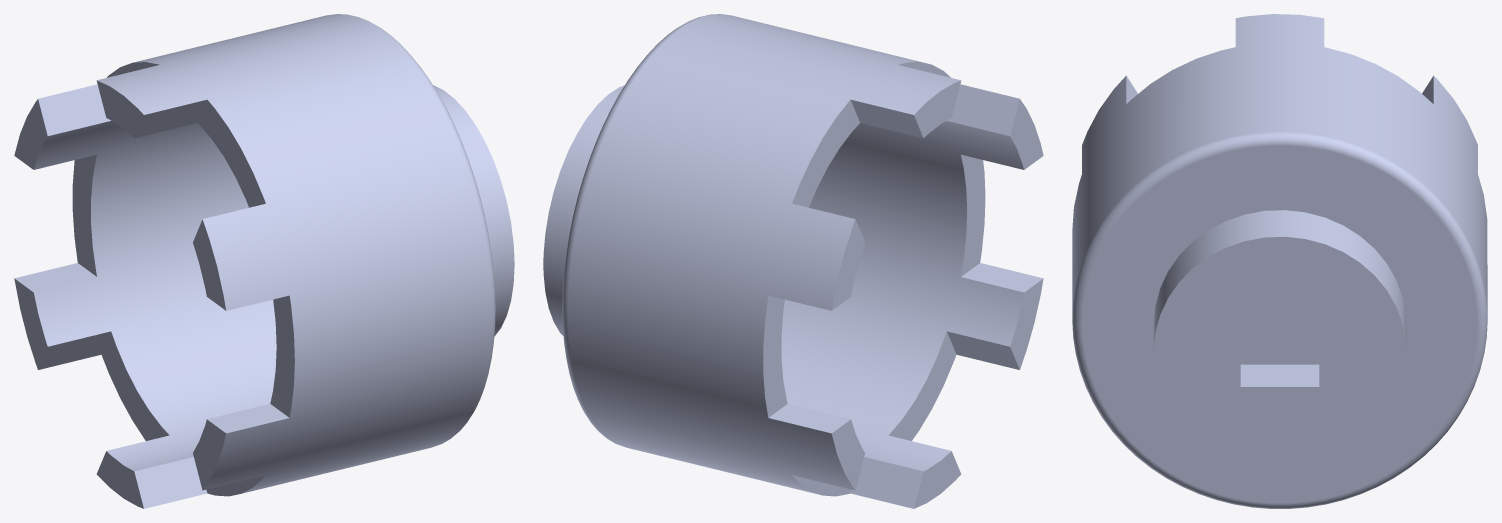
File: J47549 - Adaptor (1).fbx
3 views of the same model, side by side, from view 1: azimuth 30°, elevation 25°; view 2: azimuth 150°, elevation 25°; view 3: azimuth 270°, elevation 25° (orthographic). The views are drawn at different scales.
Parts seen in each view (by area): view 1: J47549 - Adaptor (1); view 2: J47549 - Adaptor (1); view 3: J47549 - Adaptor (1).
Part boxes in pixels (x1=…): J47549 - Adaptor (1): x1=14, y1=14, x2=514, y2=508; J47549 - Adaptor (1): x1=543, y1=14, x2=1043, y2=508; J47549 - Adaptor (1): x1=1072, y1=14, x2=1487, y2=508.
Size of the model in its own units: 6.7 by 7.9 by 7.9.
